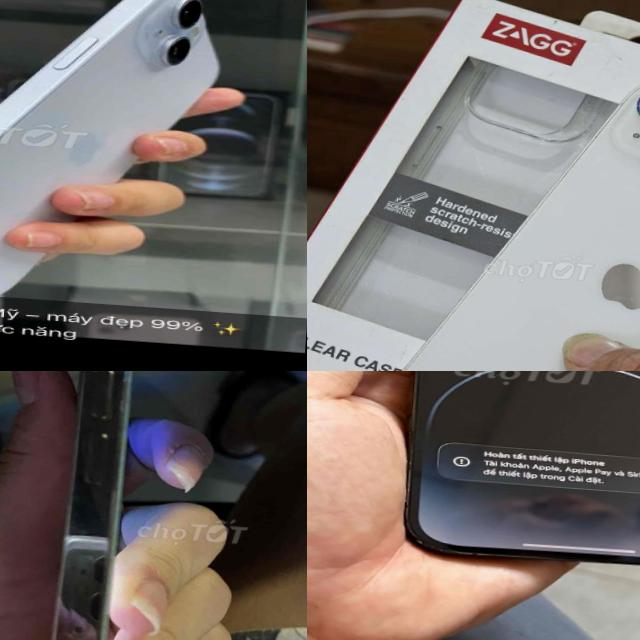gen_12_13: (0, 371, 222, 640)
gen_14: (384, 52, 640, 371), (380, 371, 640, 583)
gen_15: (0, 0, 235, 340)
scratch: (83, 371, 152, 408)
